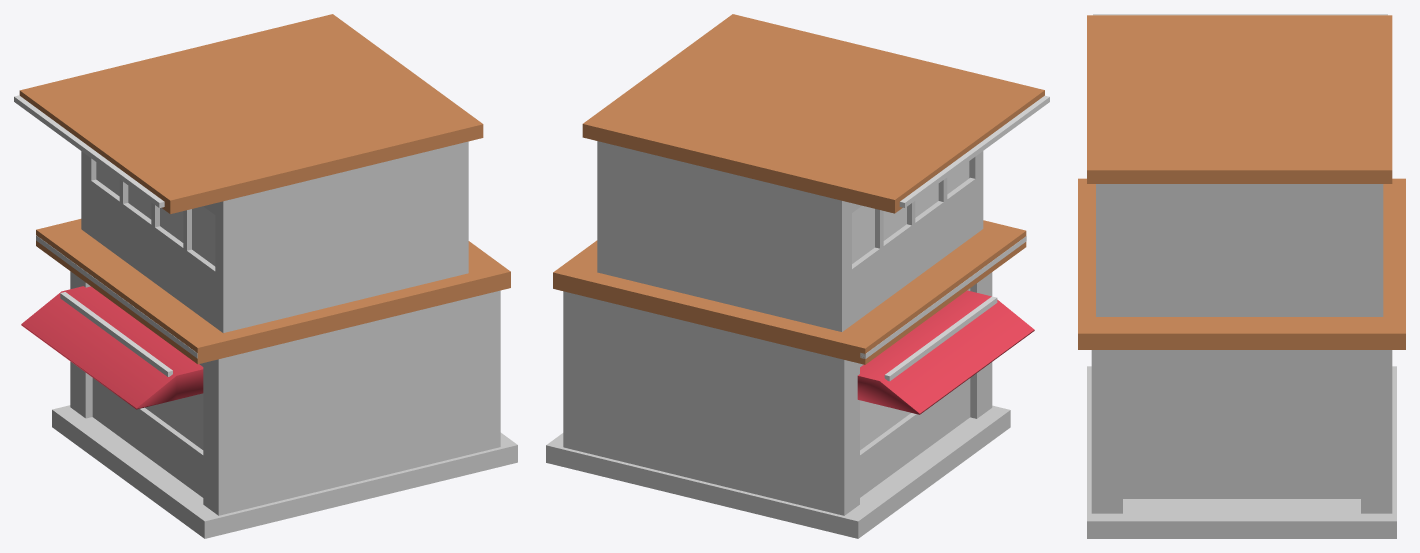
Rendered from RestaurantLongWindow.fbx.
The picture shows the model from 3 angles, left to right: view 1: azimuth 30°, elevation 25°; view 2: azimuth 150°, elevation 25°; view 3: azimuth 270°, elevation 25°; orthographic projection.
Parts seen in each view (by area): view 1: Cube.100, Cube.105, roofs_1.026, Cube.099, Cube.097, roofs_1.023, roofs_1.021, Cube.096, Cube.084, Cube.098, Cube.081, Cube.082; view 2: Cube.100, roofs_1.021, roofs_1.026, Cube.099, Cube.097, roofs_1.023, Cube.098, Cube.096, Cube.084, Cube.105, Cube.081, Cube.082; view 3: Cube.100, roofs_1.026, roofs_1.021, Cube.099, Cube.097, Cube.098, Cube.105, Cube.084.
Part boxes in pixels (box(x1,y1,x2,y2)): Cube.100: box(19, 14, 483, 214); Cube.105: box(203, 290, 500, 515); roofs_1.026: box(81, 141, 468, 332); Cube.099: box(36, 219, 510, 364); Cube.097: box(52, 405, 517, 538); roofs_1.023: box(21, 286, 203, 409); roofs_1.021: box(92, 363, 203, 497); Cube.096: box(96, 162, 215, 449); Cube.084: box(14, 95, 164, 208); Cube.098: box(70, 271, 92, 418); Cube.081: box(60, 292, 172, 376); Cube.082: box(36, 235, 197, 358); Cube.100: box(582, 14, 1044, 213); roofs_1.021: box(593, 288, 970, 514); roofs_1.026: box(597, 141, 983, 331); Cube.099: box(553, 220, 1026, 364); Cube.097: box(546, 405, 1010, 538); roofs_1.023: box(857, 290, 1034, 414); Cube.098: box(563, 291, 859, 515); Cube.096: box(852, 161, 969, 450); Cube.084: box(899, 95, 1049, 207); Cube.105: box(970, 272, 992, 418); Cube.081: box(884, 296, 997, 381); Cube.082: box(860, 236, 1026, 358); Cube.100: box(1087, 15, 1392, 183); roofs_1.026: box(1096, 184, 1383, 316); roofs_1.021: box(1123, 350, 1360, 498); Cube.099: box(1078, 178, 1405, 349); Cube.097: box(1087, 366, 1396, 538); Cube.098: box(1361, 350, 1392, 513); Cube.105: box(1091, 350, 1122, 513); Cube.084: box(1093, 14, 1387, 15).
Bounding box in the file's own units: 4685 × 4320 × 3650.
